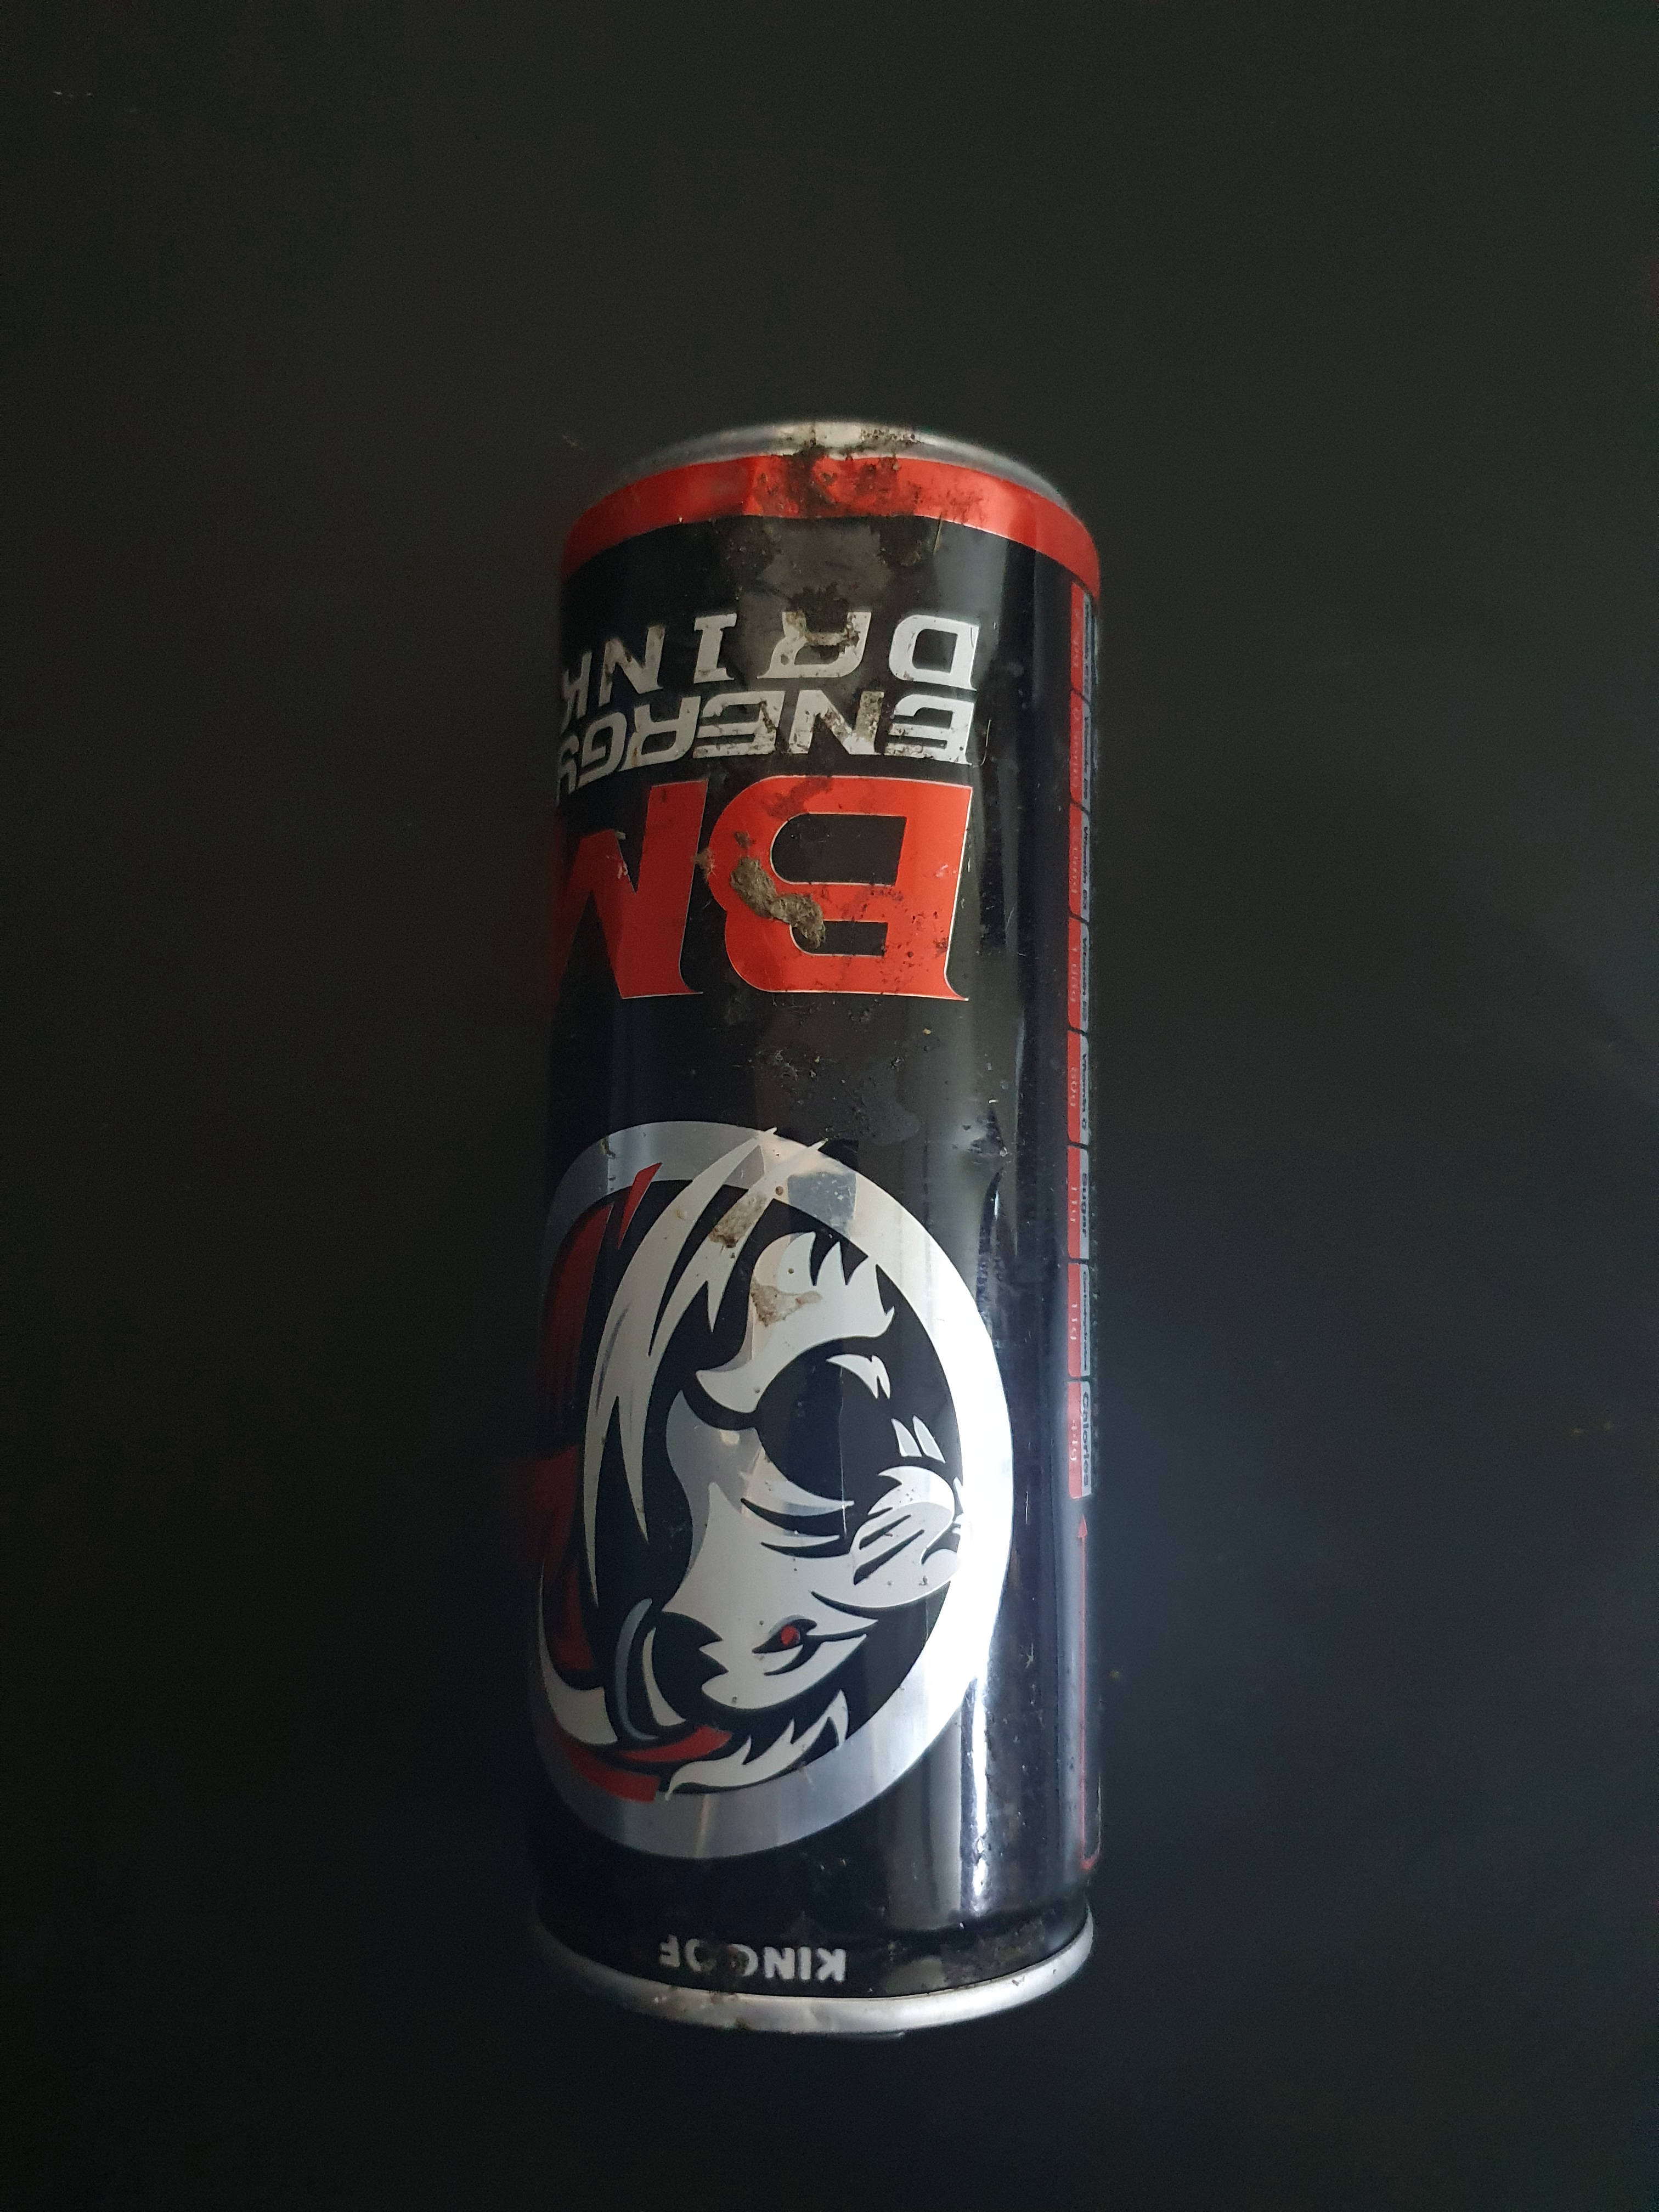metal: (483, 364, 1147, 2055)
